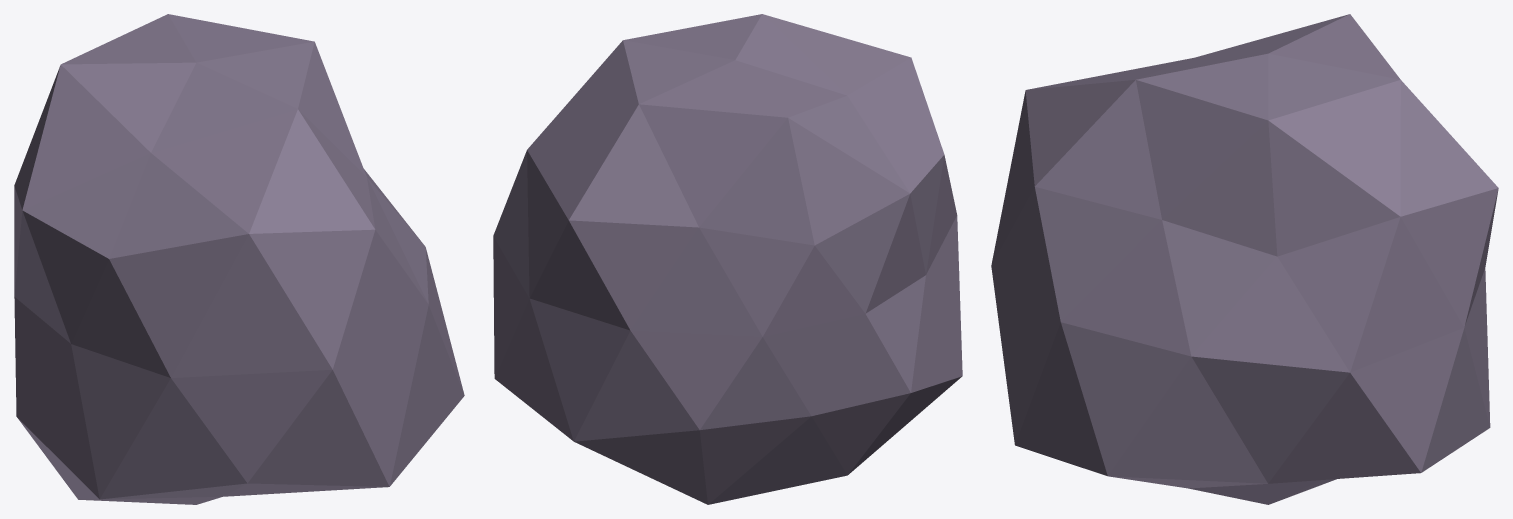
Rendered from ProjectileRock.fbx.
3 renders of one model, left to right at view 1: azimuth 30°, elevation 25°; view 2: azimuth 150°, elevation 25°; view 3: azimuth 270°, elevation 25°, orthographic. The views are drawn at different scales.
Parts seen in each view (by area): view 1: ProjectileRock; view 2: ProjectileRock; view 3: ProjectileRock.
Boxes of the visible parts, box(x1,y1,x2,y2) form: ProjectileRock: box(14, 14, 464, 504); ProjectileRock: box(493, 14, 962, 504); ProjectileRock: box(991, 14, 1498, 504).
Size of the model in its own units: 12.96 by 13.79 by 14.05.
